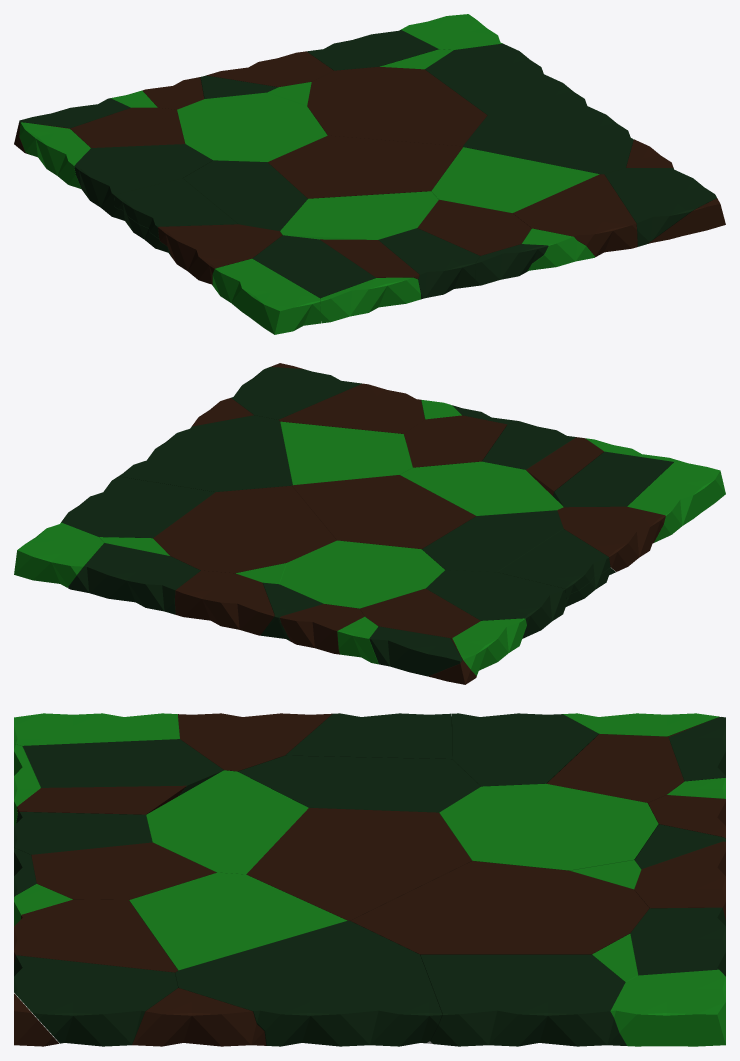
Rendered from surface_ground.fbx.
The picture shows the model from 3 angles, top to bottom: view 1: azimuth 30°, elevation 25°; view 2: azimuth 150°, elevation 25°; view 3: azimuth 270°, elevation 25°; orthographic projection. The views are drawn at different scales.
Visible parts, largest first — view 1: Cube_cell.011, Cube_cell.039, Cube_cell.012, Cube_cell.001, Cube_cell.024, Cube_cell, Cube_cell.032, Cube_cell.023, Cube_cell.019, Cube_cell.004, Cube_cell.027, Cube_cell.003 (+22 smaller); view 2: Cube_cell.011, Cube_cell.039, Cube_cell.012, Cube_cell.001, Cube_cell.024, Cube_cell, Cube_cell.032, Cube_cell.019, Cube_cell.004, Cube_cell.007, Cube_cell.005, Cube_cell.023 (+22 smaller); view 3: Cube_cell.039, Cube_cell.011, Cube_cell, Cube_cell.012, Cube_cell.001, Cube_cell.024, Cube_cell.003, Cube_cell.032, Cube_cell.019, Cube_cell.004, Cube_cell.023, Cube_cell.033 (+22 smaller).
Boxes of the visible parts, bbox=[...] form: Cube_cell.011: bbox=[307, 66, 487, 146]; Cube_cell.039: bbox=[463, 88, 633, 174]; Cube_cell.012: bbox=[268, 135, 462, 198]; Cube_cell.001: bbox=[177, 92, 327, 162]; Cube_cell.024: bbox=[431, 147, 599, 213]; Cube_cell: bbox=[425, 43, 568, 115]; Cube_cell.032: bbox=[280, 191, 438, 239]; Cube_cell.023: bbox=[512, 174, 637, 256]; Cube_cell.019: bbox=[183, 160, 307, 231]; Cube_cell.004: bbox=[74, 144, 212, 216]; Cube_cell.027: bbox=[212, 258, 320, 334]; Cube_cell.003: bbox=[604, 168, 716, 246]; Cube_cell.011: bbox=[153, 485, 336, 573]; Cube_cell.039: bbox=[118, 415, 292, 491]; Cube_cell.012: bbox=[292, 475, 475, 549]; Cube_cell.001: bbox=[279, 540, 444, 608]; Cube_cell.024: bbox=[280, 421, 412, 485]; Cube_cell: bbox=[61, 476, 215, 538]; Cube_cell.032: bbox=[400, 461, 563, 515]; Cube_cell.019: bbox=[422, 510, 563, 572]; Cube_cell.004: bbox=[426, 570, 565, 638]; Cube_cell.007: bbox=[68, 543, 200, 614]; Cube_cell.005: bbox=[175, 570, 274, 635]; Cube_cell.023: bbox=[279, 383, 424, 438]; Cube_cell.039: bbox=[175, 920, 442, 1046]; Cube_cell.011: bbox=[350, 861, 649, 954]; Cube_cell: bbox=[420, 954, 626, 1046]; Cube_cell.012: bbox=[246, 808, 471, 920]; Cube_cell.001: bbox=[439, 783, 658, 870]; Cube_cell.024: bbox=[129, 872, 347, 970]; Cube_cell.003: bbox=[14, 955, 177, 1046]; Cube_cell.032: bbox=[146, 770, 308, 874]; Cube_cell.019: bbox=[238, 755, 480, 812]; Cube_cell.004: bbox=[451, 713, 598, 786]; Cube_cell.023: bbox=[14, 899, 177, 972]; Cube_cell.033: bbox=[22, 739, 223, 796].
Size of the model in its own units: 4000 by 200 by 4000.
